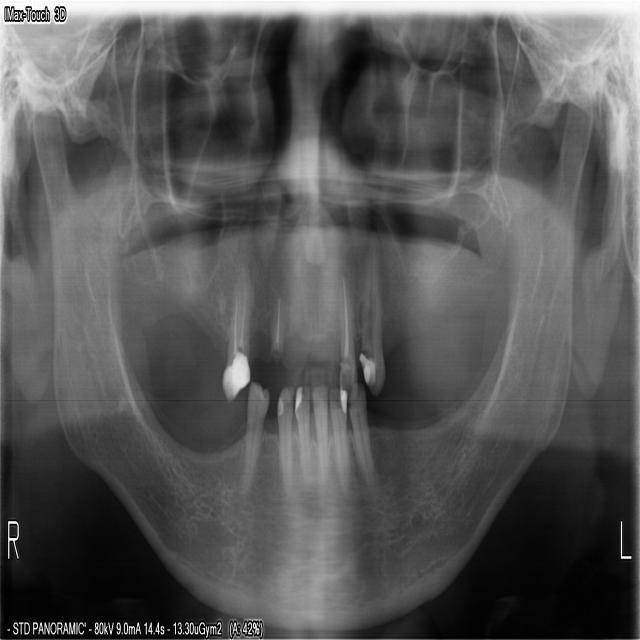LCD: (346, 382, 374, 486)
LCU: (335, 275, 356, 414)
LID: (327, 385, 349, 492), (312, 377, 327, 483)
LPMU: (358, 259, 386, 401)
RID: (294, 377, 314, 488), (274, 380, 294, 484)
RIU: (268, 291, 284, 367)
RPMD: (243, 379, 273, 492)
RPMU: (218, 276, 255, 399)
